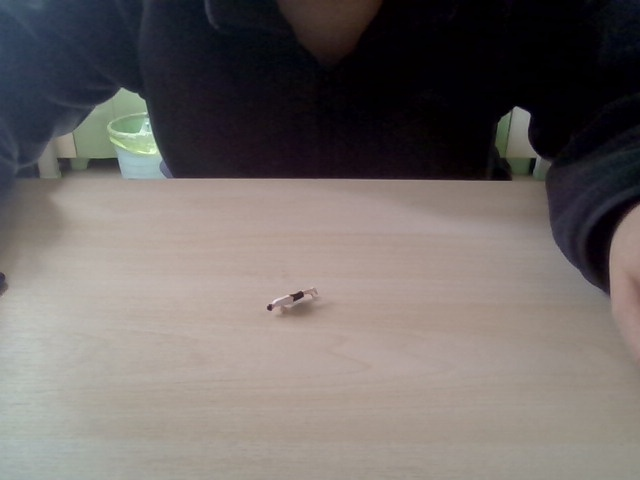fall: (262, 284, 322, 322)
